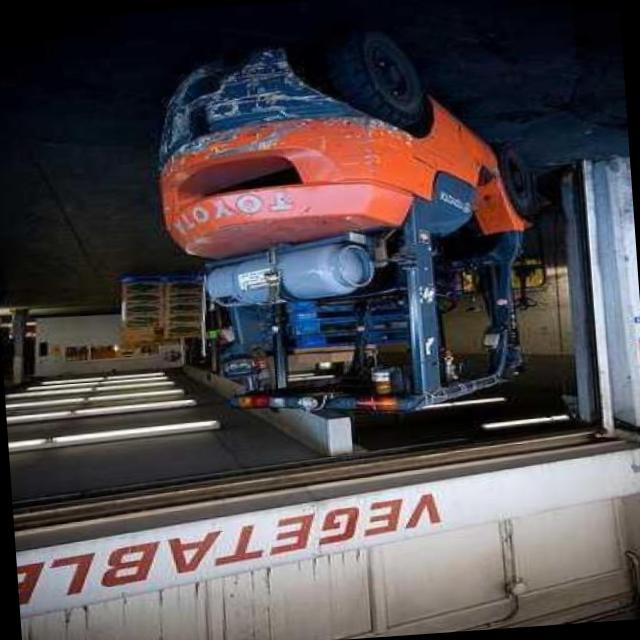forklift: (131, 10, 556, 432)
